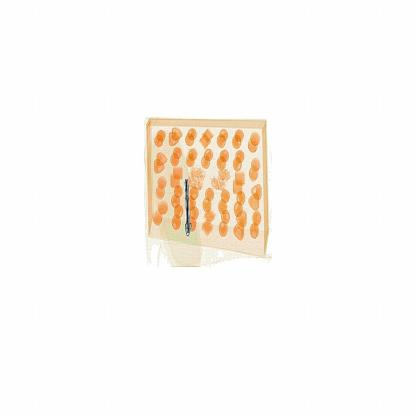knife: (182, 179, 199, 238)
